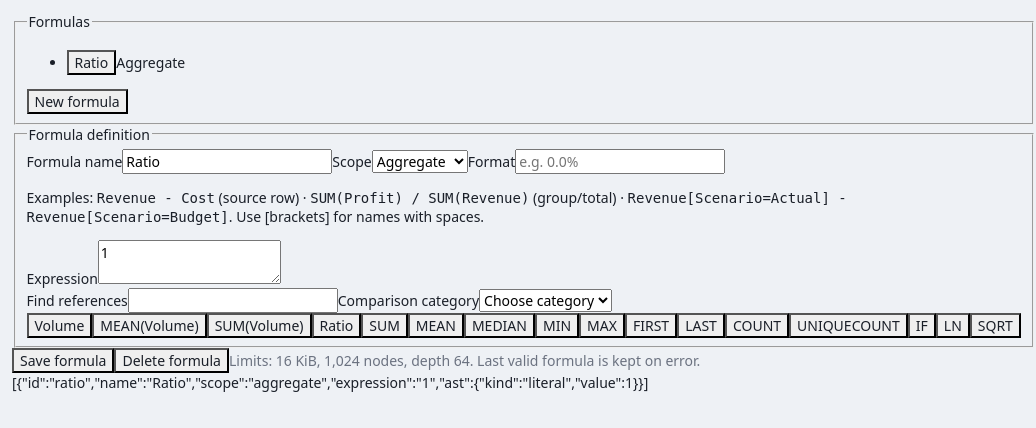
Test case: function autocomplete inserts valid syntax with the reference inside the arguments
Clear the text box labelled "Expression" at [189, 262], box [98,240,281,284]
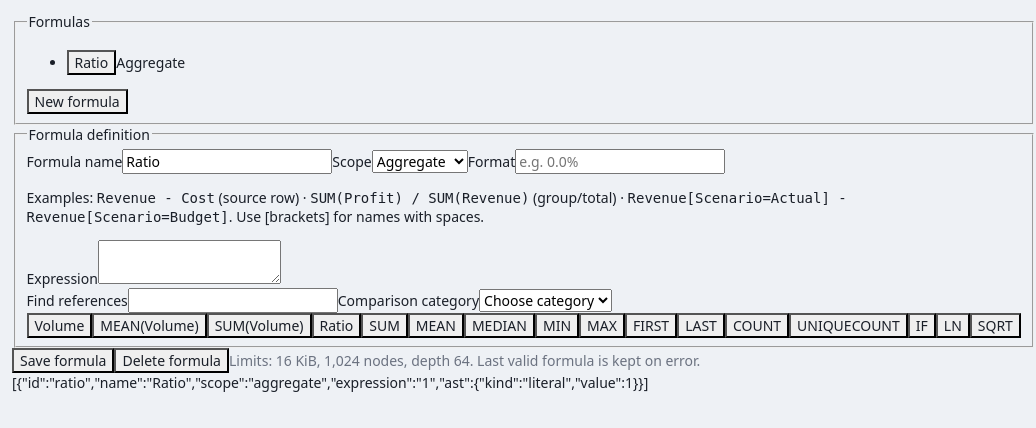
Click the button with aria-label "Insert SUM".
click(384, 325)  # box [361,312,408,338]
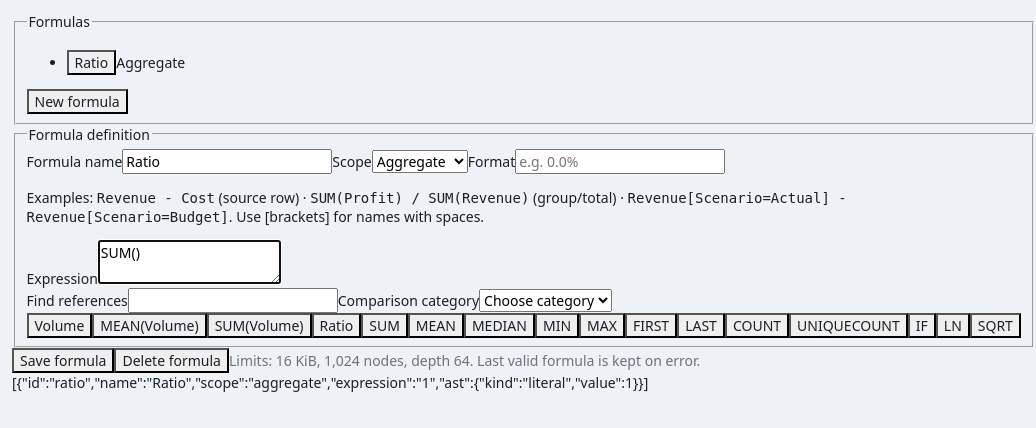
Click the button with aria-label "Insert Volume".
click(59, 325)  # box [26,312,92,338]
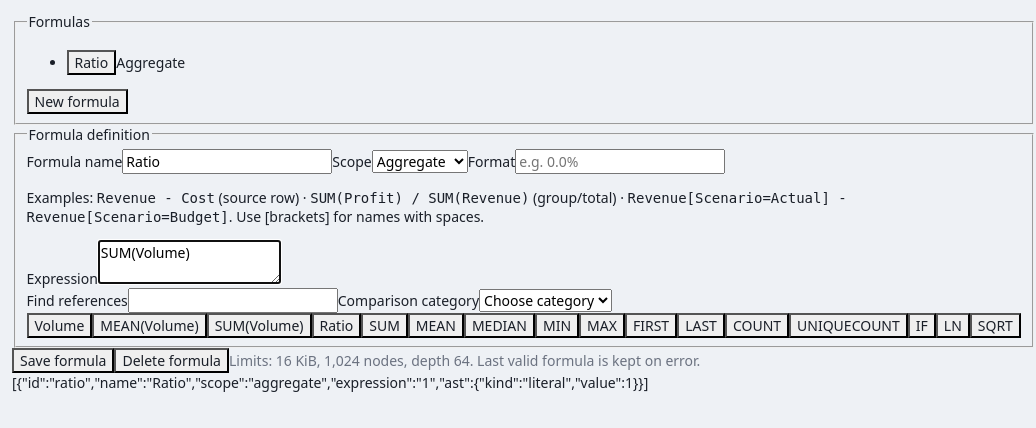
Click the button "Save formula".
click(63, 361)  # box [12,348,114,373]
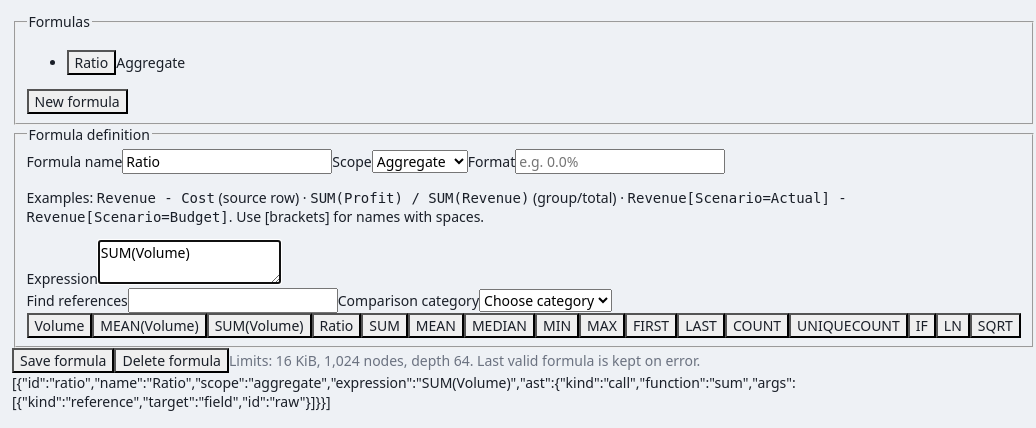
Check: the text named "Saved model" shows "\"function\":\"sum\"", box [12,373,796,411]
Check: the text named "Saved model" shows "\"target\":\"field\",\"id\":\"raw\"", box [12,373,796,411]
